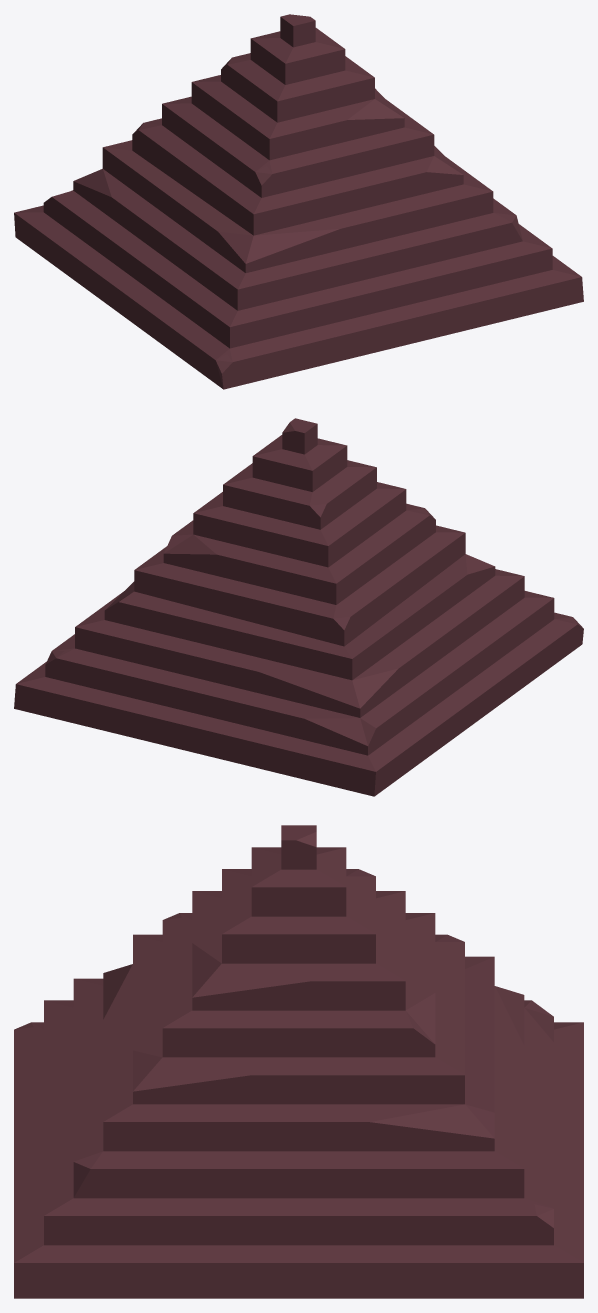
File: pyramid-old.fbx
3 renders of one model, top to bottom at view 1: azimuth 30°, elevation 25°; view 2: azimuth 150°, elevation 25°; view 3: azimuth 270°, elevation 25°, orthographic. The views are drawn at different scales.
Visible parts, largest first — view 1: pyramid-old; view 2: pyramid-old; view 3: pyramid-old.
Part boxes in pixels (<box>): pyramid-old: <box>14,14,583,389</box>; pyramid-old: <box>14,418,583,796</box>; pyramid-old: <box>14,825,583,1298</box>.
Size of the model in its own units: 60.27 by 39.98 by 60.
